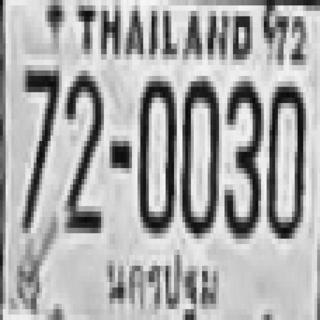N00: (265, 79, 305, 236), (180, 76, 216, 233), (138, 76, 174, 228)
N02: (64, 68, 101, 231)
N03: (222, 76, 261, 233)
N07: (21, 65, 58, 228)
P28: (103, 244, 222, 320)
